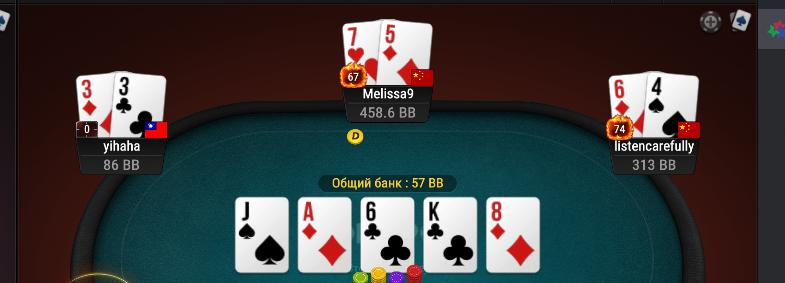3c: (114, 72, 166, 139)
3d: (76, 73, 113, 140)
4s: (647, 73, 698, 138)
5d: (379, 19, 432, 89)
6c: (361, 197, 413, 272)
6d: (609, 72, 646, 139)
7h: (341, 21, 381, 87)
8d: (487, 198, 539, 274)
Ad: (298, 198, 351, 274)
Js: (236, 197, 289, 273)
Kc: (424, 198, 477, 272)
